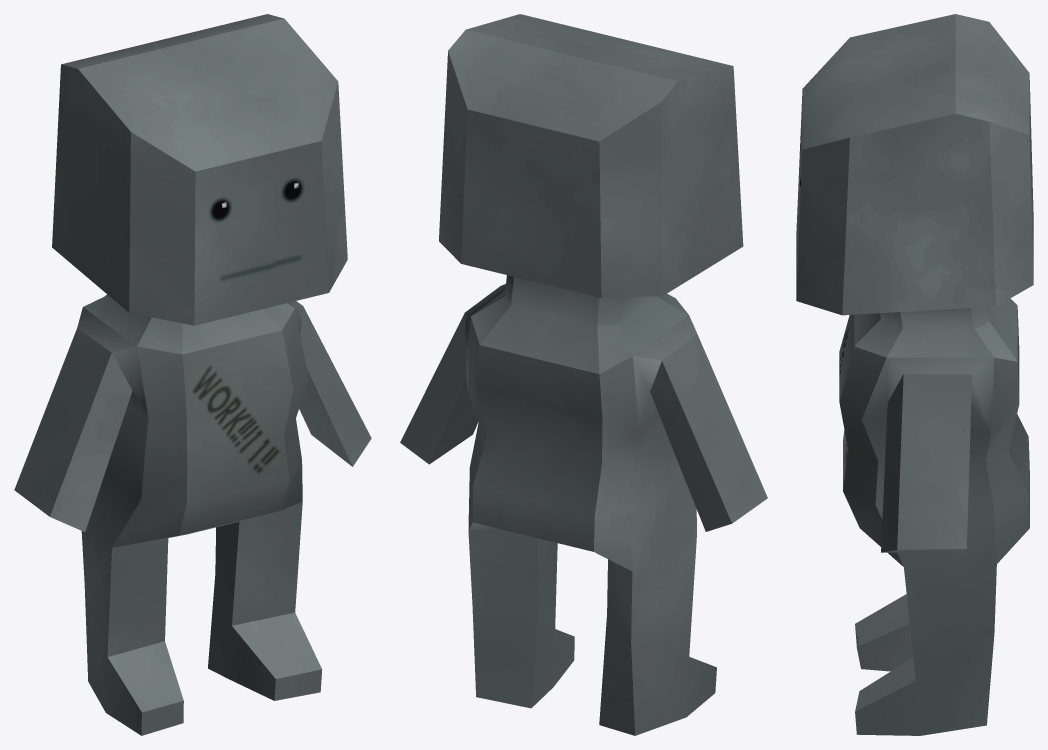
Rendered from tinyworker.fbx.
3 views of the same model, side by side, from view 1: azimuth 30°, elevation 25°; view 2: azimuth 150°, elevation 25°; view 3: azimuth 270°, elevation 25° (orthographic). The views are drawn at different scales.
Parts seen in each view (by area): view 1: pCube1; view 2: pCube1; view 3: pCube1.
Boxes of the visible parts, x1,y1,x2,y2 form: pCube1: [14, 14, 371, 735]; pCube1: [400, 14, 767, 735]; pCube1: [796, 14, 1033, 735].
Bounding box in the file's own units: 15.28 × 9.84 × 28.86.
